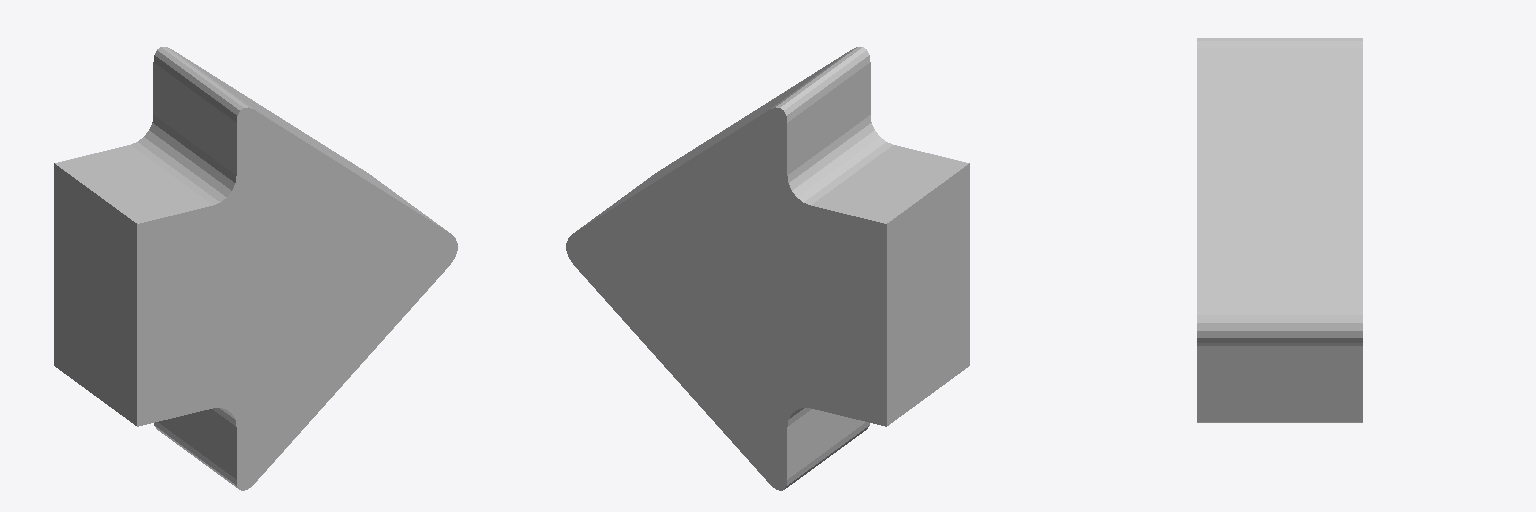
The model's file is Arrow_46.obj.
3 views of the same model, side by side, from view 1: azimuth 30°, elevation 25°; view 2: azimuth 150°, elevation 25°; view 3: azimuth 270°, elevation 25° (orthographic).
Visible parts, largest first — view 1: Arrow_46; view 2: Arrow_46; view 3: Arrow_46.
Part boxes in pixels (x1,y1,x2,y2): Arrow_46: (54,47,457,490); Arrow_46: (566,47,969,490); Arrow_46: (1197,38,1362,422).
Size of the model in its own units: 1.65 by 1.89 by 0.7423.